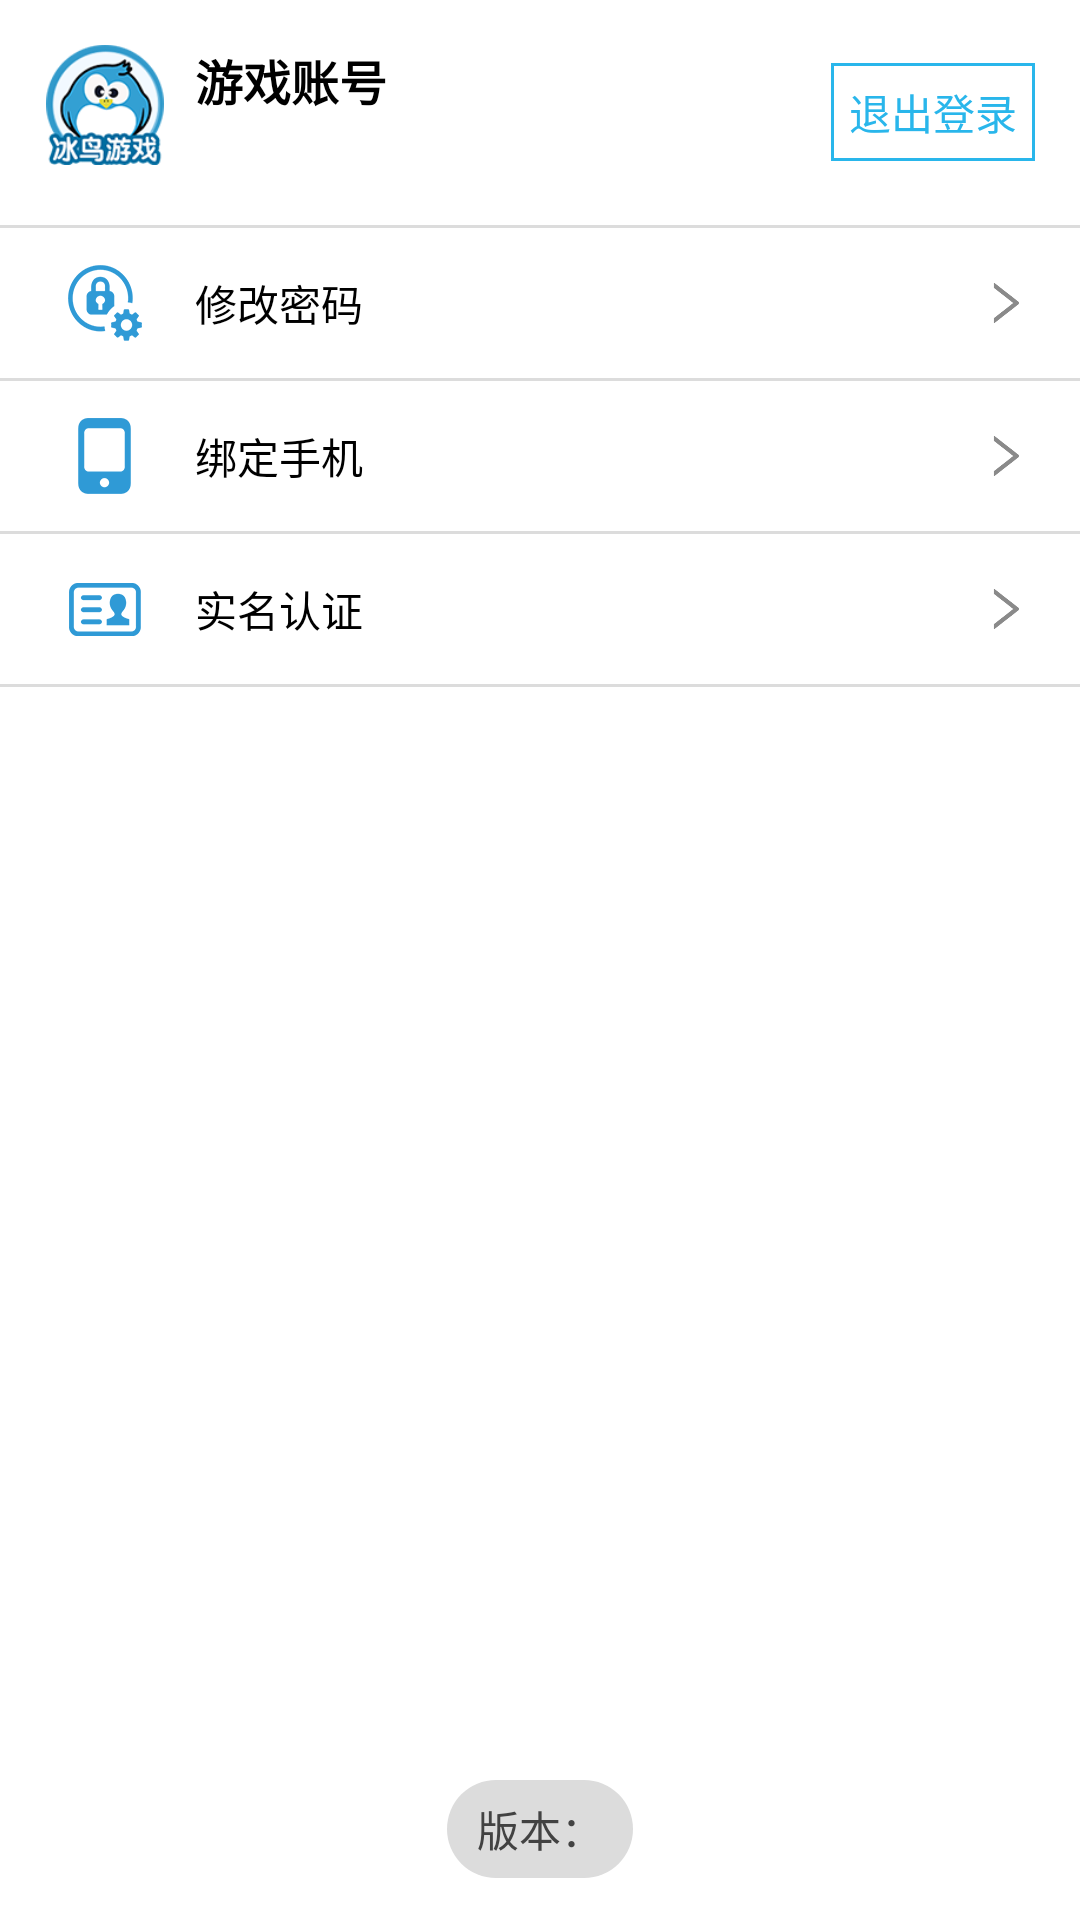

Screen size 1080w x 1920h. Icon name, then its center in pixels as (x,y):
yh right: (1006,303), (1006,456), (1006,609)
